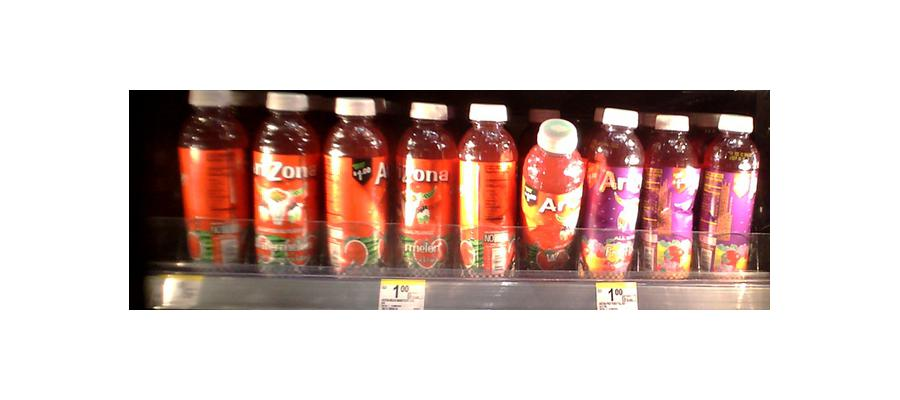bottle: (179, 85, 247, 272), (250, 89, 317, 273), (322, 93, 389, 276), (581, 105, 643, 280), (395, 100, 455, 279), (460, 101, 517, 277), (519, 118, 581, 274), (700, 110, 756, 278), (643, 109, 695, 278)
